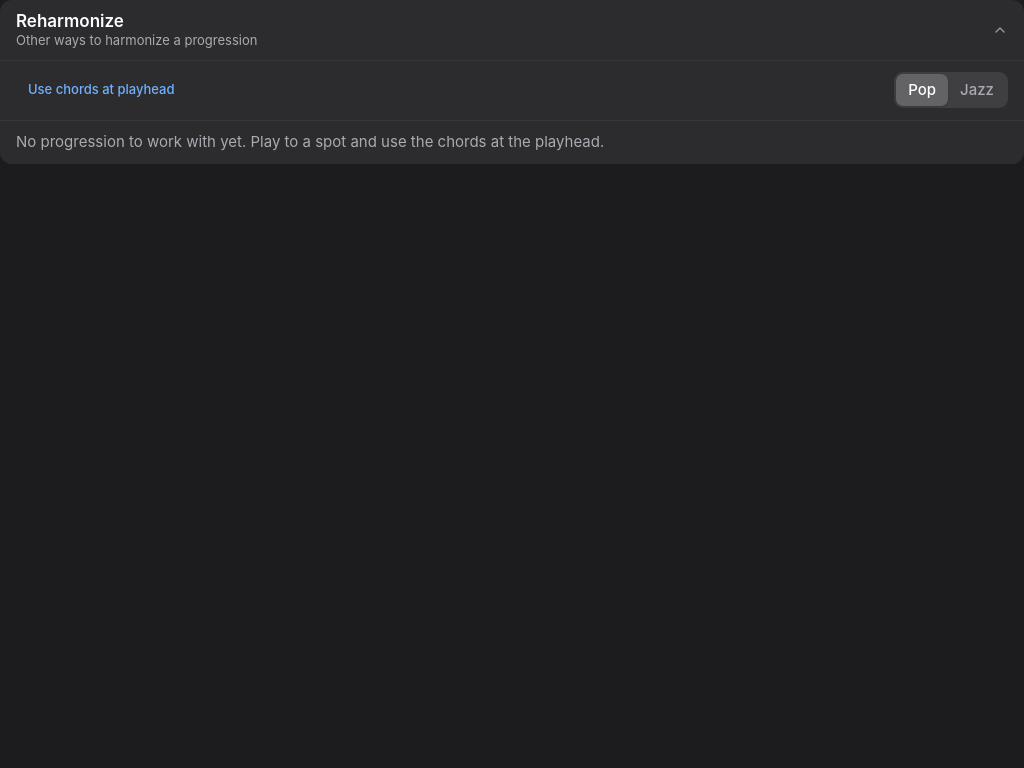
Test: ReharmPanel › captures chords from the playhead on demand
Check: the text "No progression to work with yet" is shown, box [16, 132, 604, 151]
Click the button "Use chords at playhead" at coordinates (101, 90), box [16, 74, 186, 106]
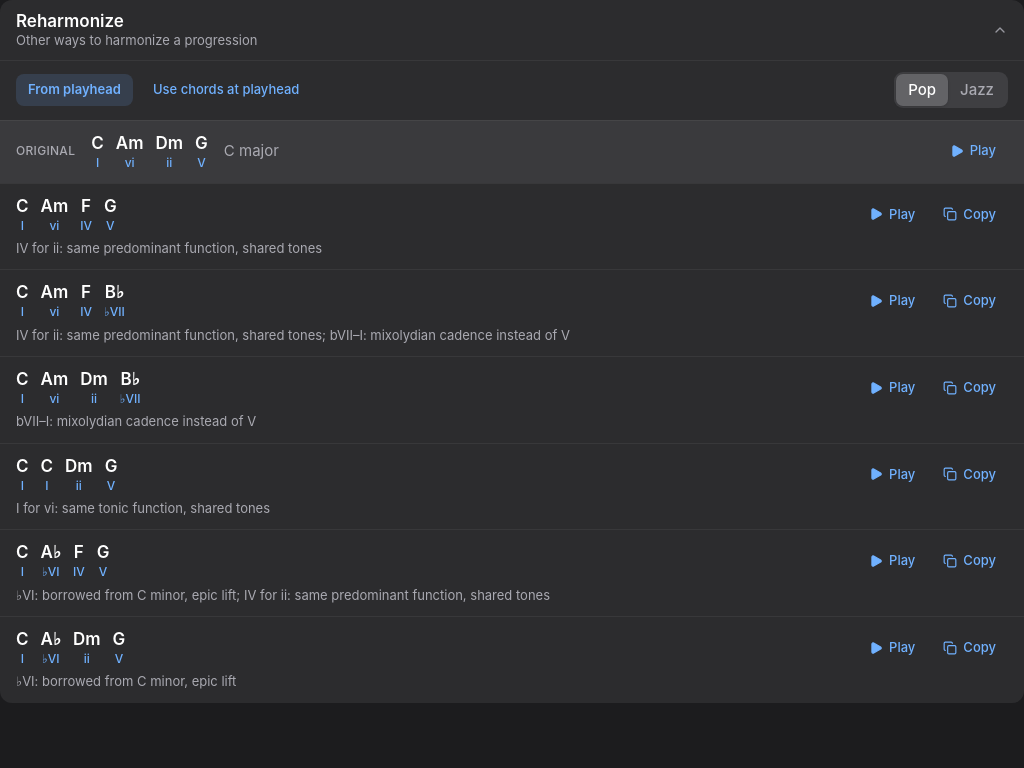
Check: the text "Dm" in the row of "C major" is shown, box [156, 133, 183, 153]
Check: the 1st element with test id "reharm-alternative" is shown, box [0, 183, 1023, 270]
